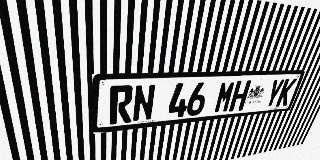4: (167, 83, 191, 118)
6: (185, 82, 209, 116)
H: (228, 80, 251, 112)
K: (275, 78, 297, 107)
M: (213, 81, 237, 113)
N: (132, 84, 156, 122)
R: (109, 85, 134, 125)
Y: (263, 79, 285, 108)
